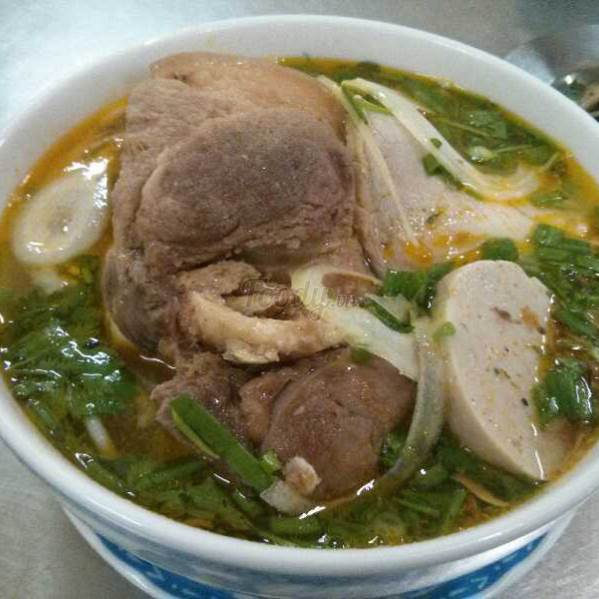chamoc: (428, 268, 576, 477)
onion: (18, 272, 118, 428)
pork: (130, 271, 390, 480), (144, 49, 355, 248)
